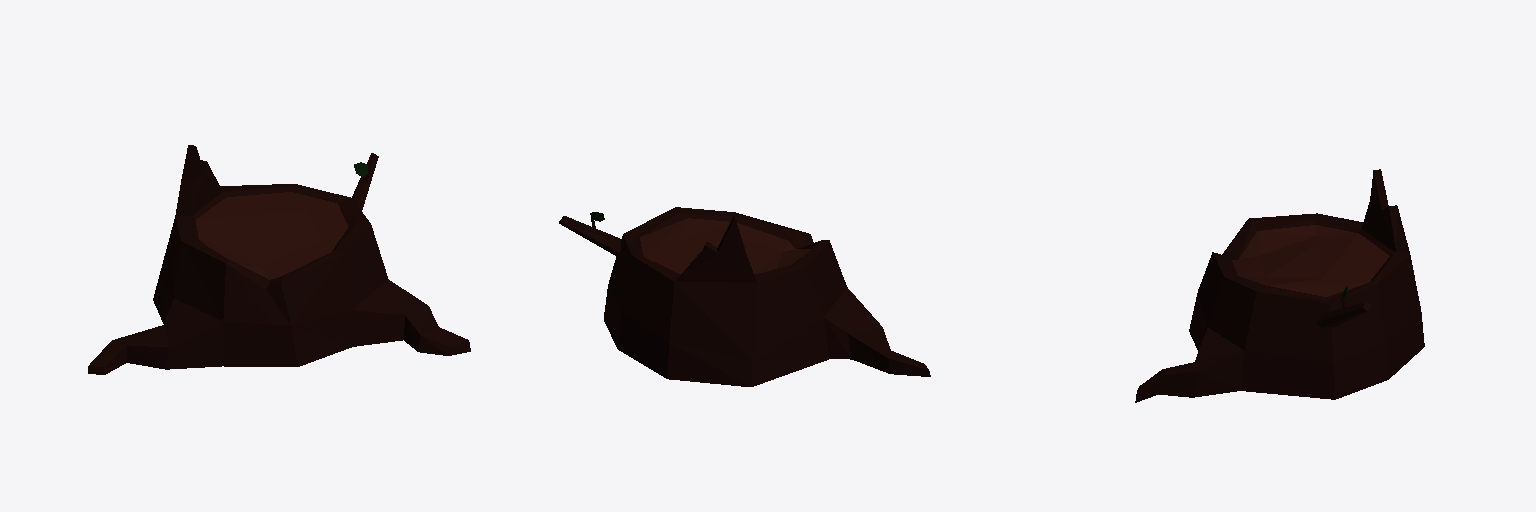
Rendered from TreeStump.obj.
3 views of the same model, side by side, from view 1: azimuth 30°, elevation 25°; view 2: azimuth 150°, elevation 25°; view 3: azimuth 270°, elevation 25° (orthographic).
Visible parts, largest first — view 1: TreeStump_Cylinder.010; view 2: TreeStump_Cylinder.010; view 3: TreeStump_Cylinder.010.
Boxes of the visible parts, box(x1,y1,x2,y2) form: TreeStump_Cylinder.010: box(88, 145, 470, 374); TreeStump_Cylinder.010: box(559, 207, 930, 386); TreeStump_Cylinder.010: box(1135, 169, 1424, 402).
Size of the model in its own units: 1.36 by 0.6216 by 1.03.